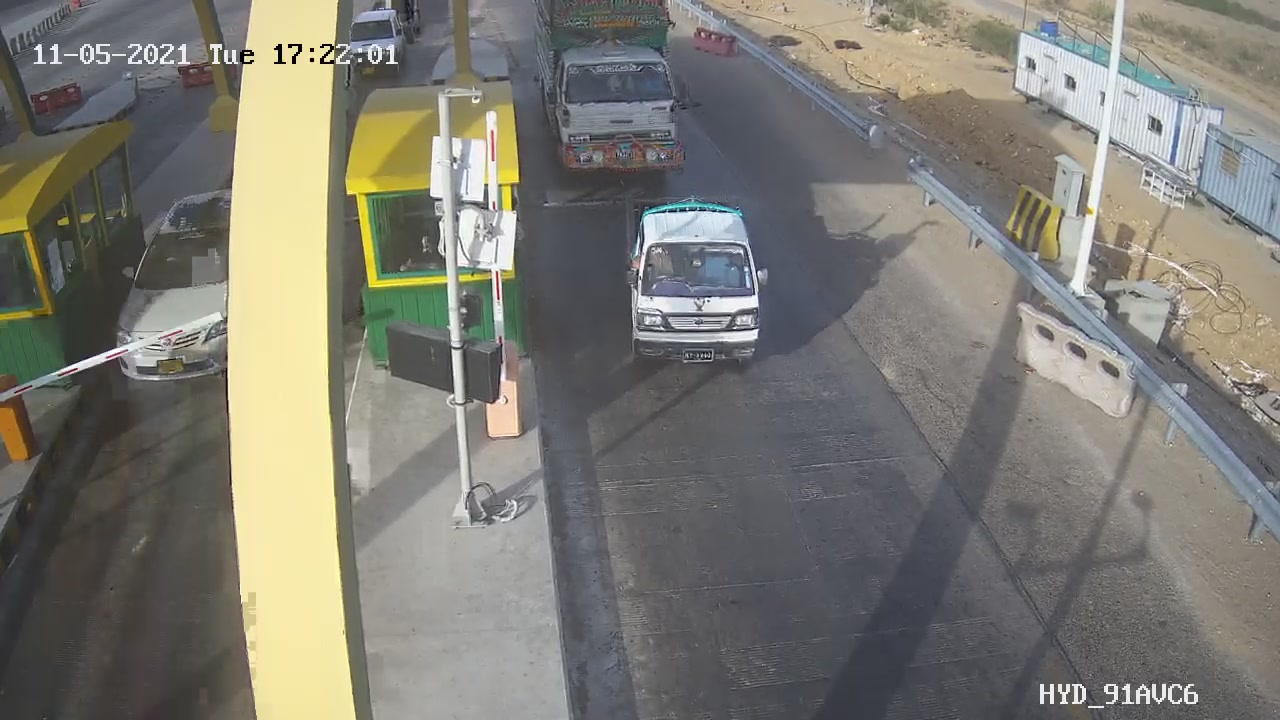F1: (608, 181, 785, 390)
